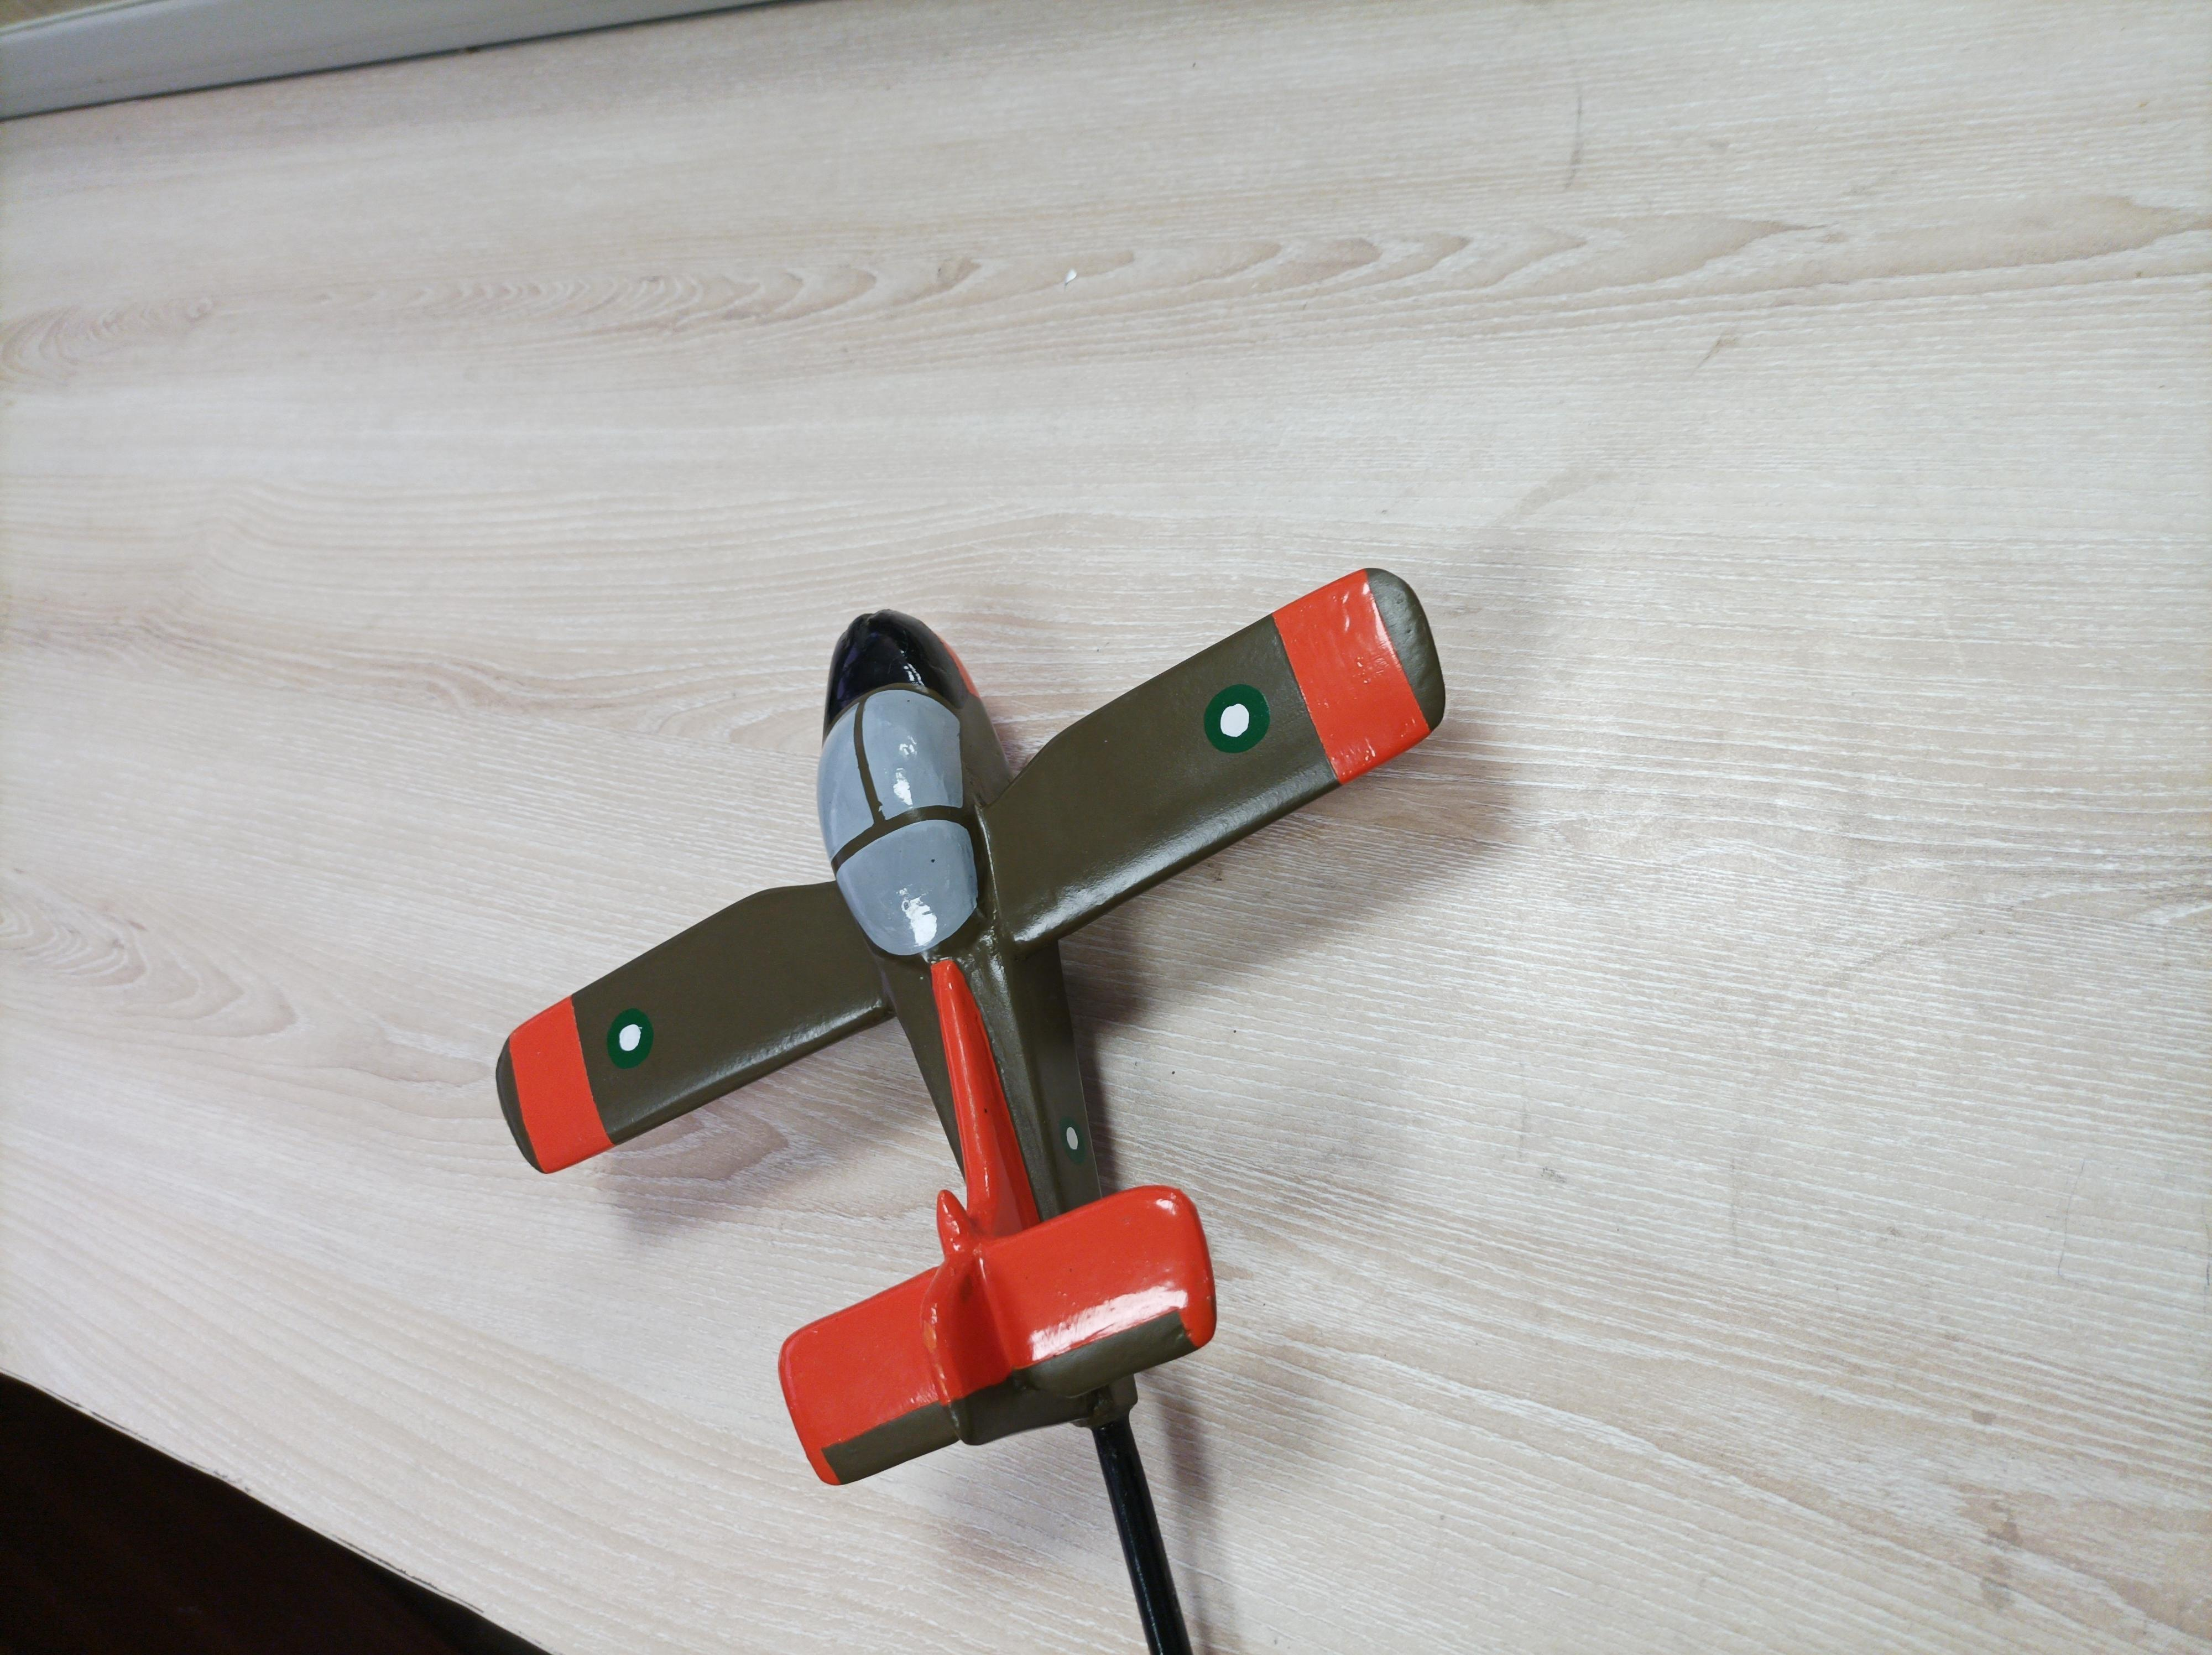Airplane: (436, 551, 1507, 1507)
